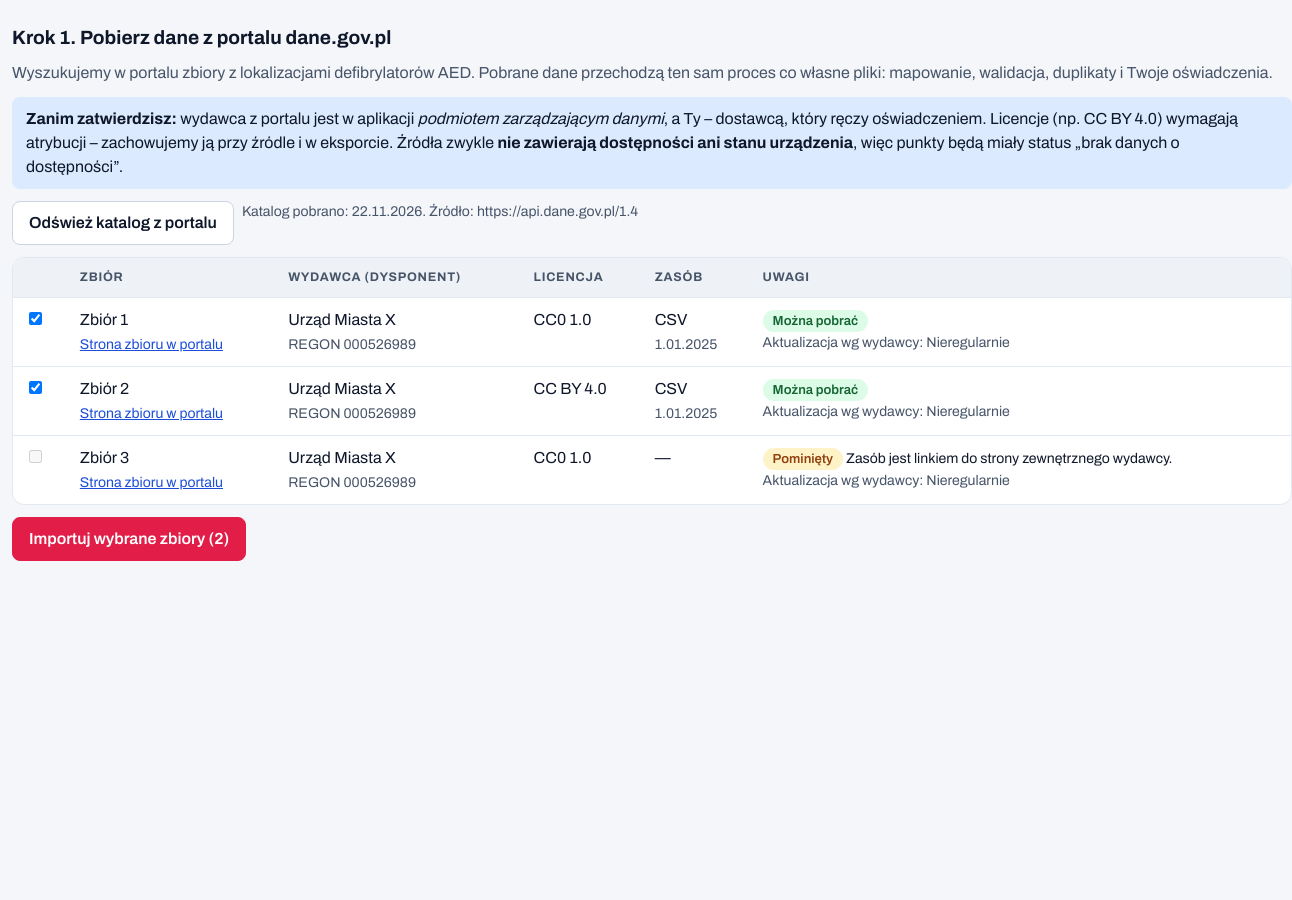
Test: DanegovImport › błąd importu (422) pokazuje szczegóły i nie przechodzi dalej
The width and height of the screenshot is (1292, 900).
Expected: the text "Zbiór 1" is shown, left=80, top=310, right=128, bottom=328
Click the button "Importuj wybrane zbiory (2)". click: (129, 538)
box: left=12, top=516, right=246, bottom=560
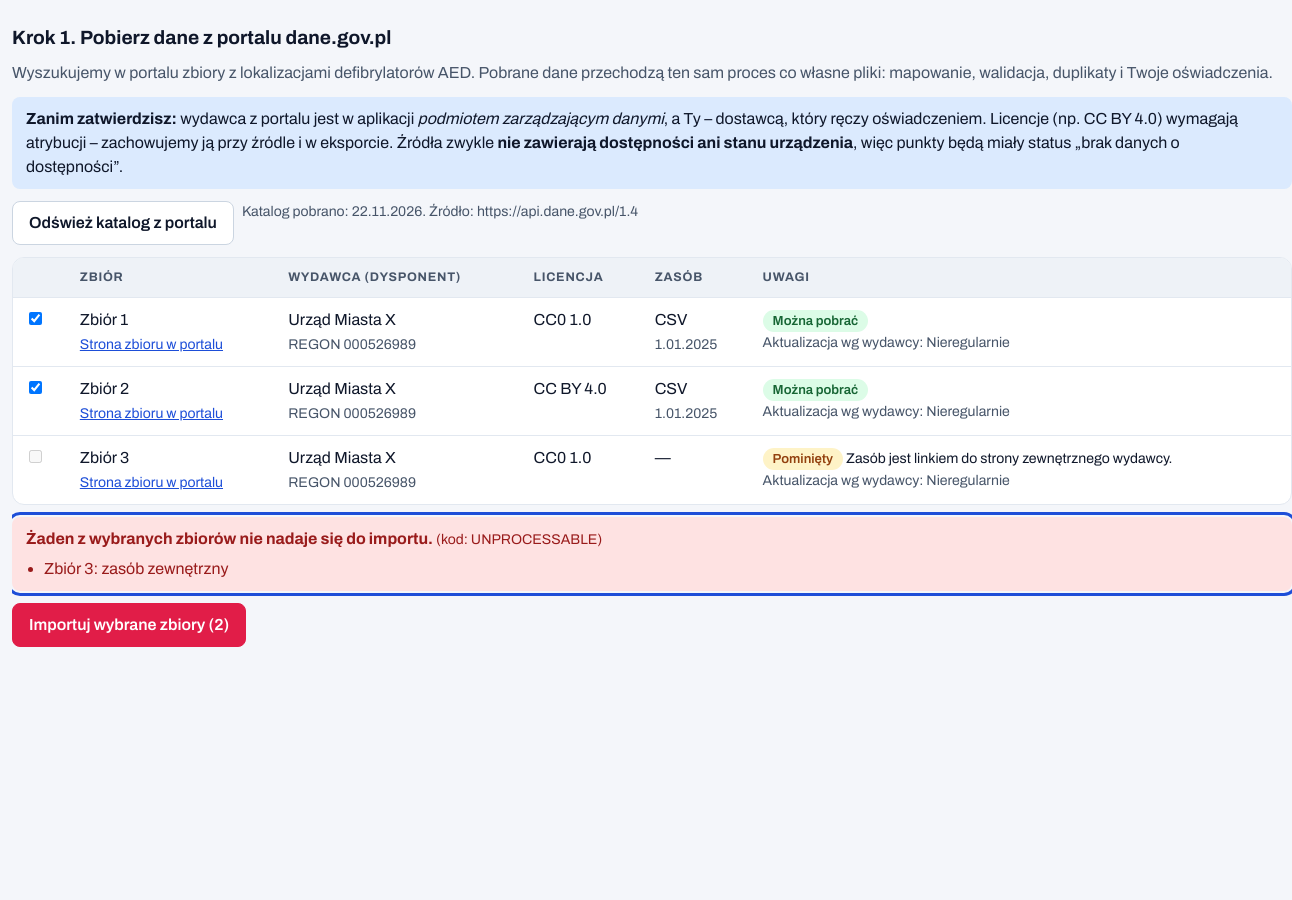
Expected: the text "Żaden z wybranych zbiorów nie nadaje się do importu." is shown, left=26, top=530, right=433, bottom=546
Expected: the list item "Zbiór 3: zasób zewnętrzny" is shown, left=44, top=560, right=228, bottom=576
